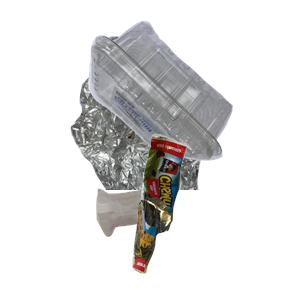glass: (94, 184, 253, 300)
metal: (68, 34, 300, 214)
plastic: (86, 18, 300, 171)
trash: (130, 131, 300, 300)
